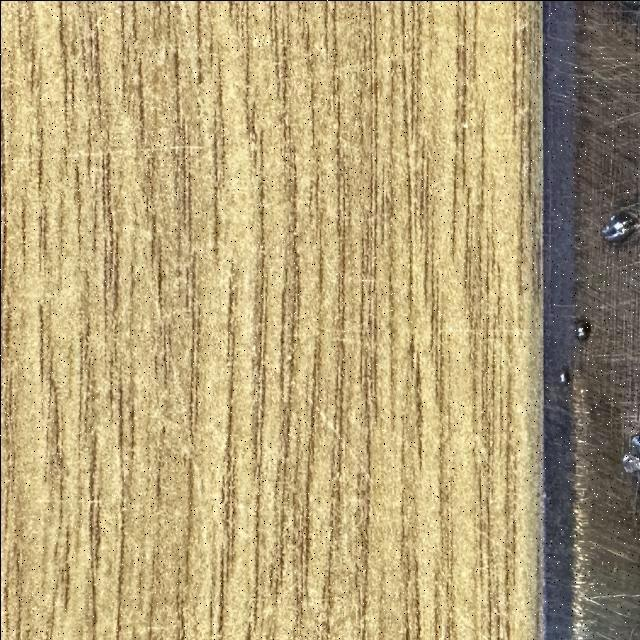Spatters: (600, 202, 640, 243), (575, 318, 590, 340), (558, 368, 569, 383)
